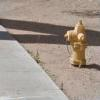Hydrant: (56, 14, 93, 67)
